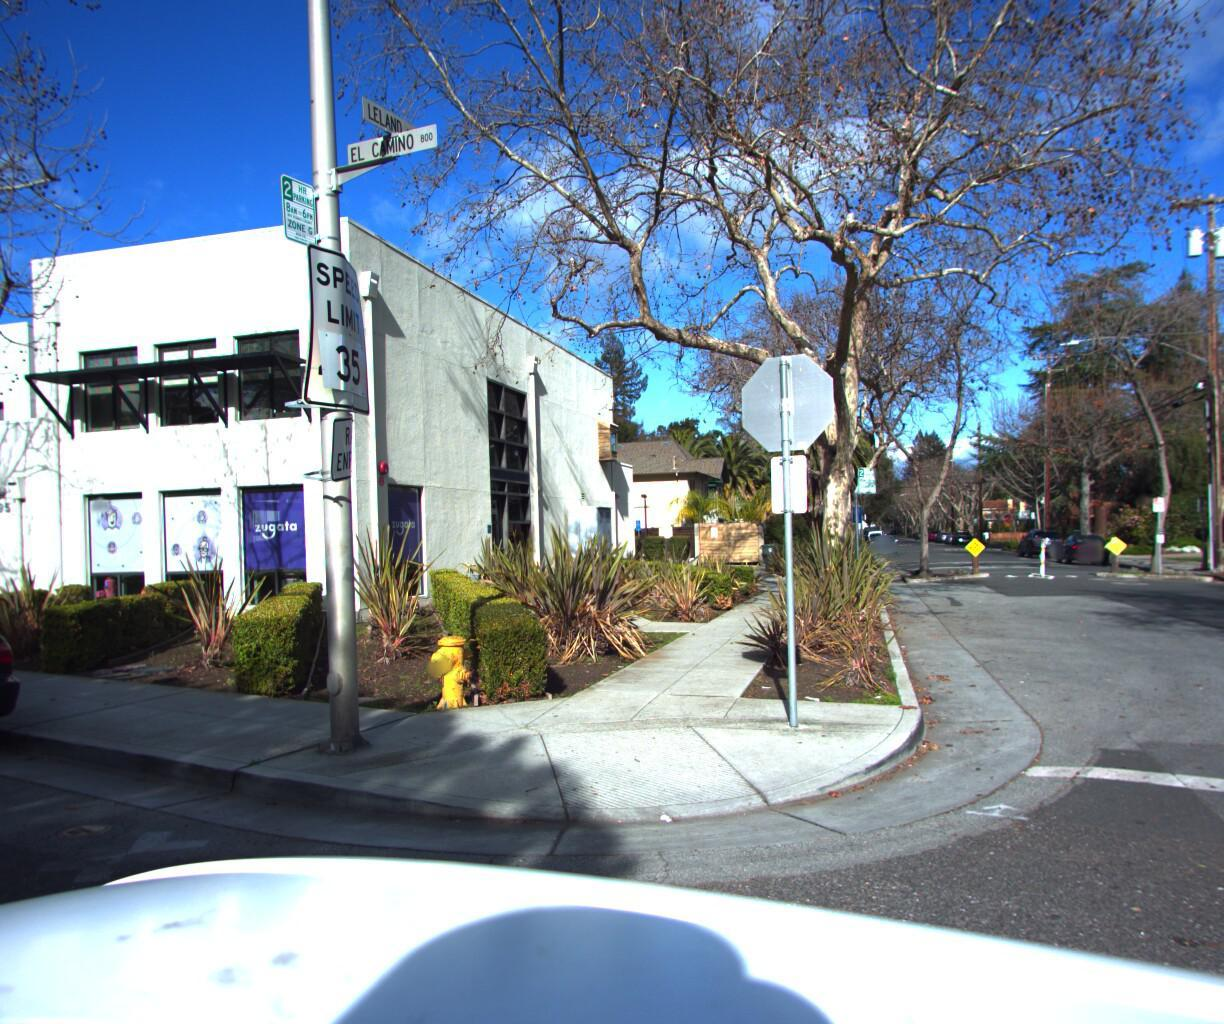car: (0, 568, 51, 814)
